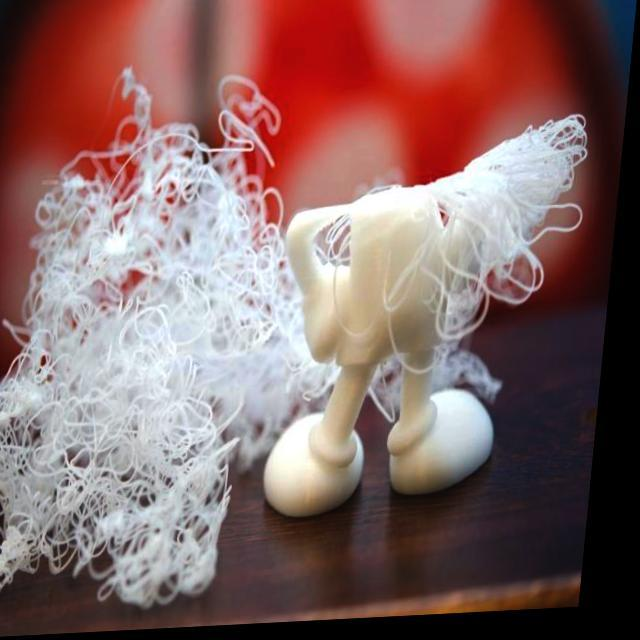spaghetti: (1, 305, 258, 613), (19, 53, 332, 299), (426, 112, 606, 356)
